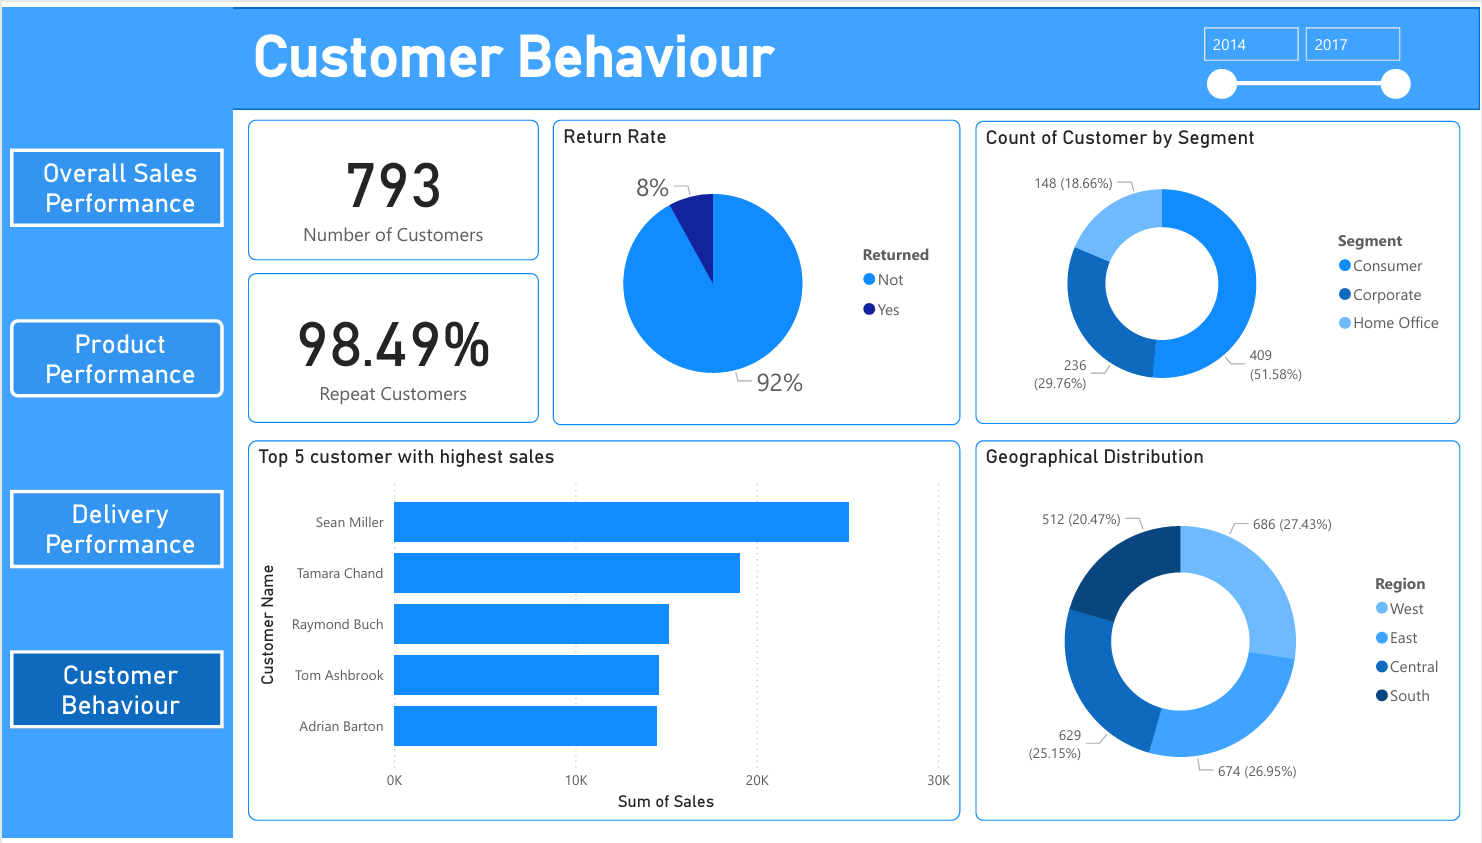

The dashboard page shown, as its layout file describes it:
{"tool":"powerbi","page":{"name":"Customer Behaviour","canvas":[1280,720],"ordinal":4},"visuals":[{"type":"shape","box":[0,0,1280,88.3],"z":0},{"type":"textbox","title":"Customer Behaviour","box":[213.3,13.3,915,61.7],"z":1000},{"type":"shape","box":[0,0,200,720],"z":2000},{"type":"slicer","fields":{"Values":["Result 1.Year"]},"box":[1028.3,6.7,200,76.7],"z":3000},{"type":"textbox","title":"Overall Sales Performance","box":[6.7,121.7,185,68.3],"z":4000},{"type":"textbox","title":"Product Performance","box":[6.7,270,185,68.3],"z":5000},{"type":"textbox","title":"Delivery Performance","box":[6.7,418.3,185,68.3],"z":6000},{"type":"textbox","title":"Customer Behaviour","box":[6.7,556.7,185,68.3],"z":7000},{"type":"card","fields":{"Values":["Count(Result 1.Customer ID)"]},"box":[213.3,96.7,251.7,121.7],"z":8000},{"type":"donutChart","title":"Count of Customer by Segment","fields":{"Category":["Retail_Data.Segment"],"Y":["Count(Retail_Data.Customer ID)"]},"box":[843.3,98.3,420,263.3],"z":9000},{"type":"card","fields":{"Values":["Retails Order Full Dataset.RepeatCustomerMeasure"]},"box":[213.3,230,251.7,130],"z":10000},{"type":"clusteredBarChart","title":"Top 5 customer with highest sales","fields":{"Category":["Retails Order Full Dataset.Customer Name"],"Y":["Sum(Retails Order Full Dataset.Sales)"]},"box":[213.3,375,616.7,330],"z":11000},{"type":"pieChart","title":"Return Rate ","fields":{"Category":["Retails Order Full Dataset.Returned"],"Y":["CountNonNull(Retails Order Full Dataset.Returned)"]},"box":[476.7,96.7,353.3,265],"z":12000},{"type":"donutChart","title":"Geographical Distribution","fields":{"Category":["Retails Order Full Dataset.Region"],"Y":["Count(Retails Order Full Dataset.Customer ID)"]},"box":[843.3,375,420,330],"z":13000}]}

Visuals, with their boxes in screenshot pixels (x1, y1, x2, y2), scaled from the page's 1280x720 canvas onto the 1482x843 screenshot:
shape: BBox(0, 0, 1481, 103)
"Customer Behaviour" textbox: BBox(247, 16, 1306, 88)
shape: BBox(0, 0, 232, 842)
slicer - Result 1.Year: BBox(1191, 8, 1422, 98)
"Overall Sales Performance" textbox: BBox(8, 142, 222, 222)
"Product Performance" textbox: BBox(8, 316, 222, 396)
"Delivery Performance" textbox: BBox(8, 490, 222, 570)
"Customer Behaviour" textbox: BBox(8, 652, 222, 732)
card - Count(Result 1.Customer ID): BBox(247, 113, 538, 256)
"Count of Customer by Segment" donutChart: BBox(976, 115, 1463, 423)
card - Retails Order Full Dataset.RepeatCustomerMeasure: BBox(247, 269, 538, 422)
"Top 5 customer with highest sales" clusteredBarChart: BBox(247, 439, 961, 825)
"Return Rate " pieChart: BBox(552, 113, 961, 423)
"Geographical Distribution" donutChart: BBox(976, 439, 1463, 825)
